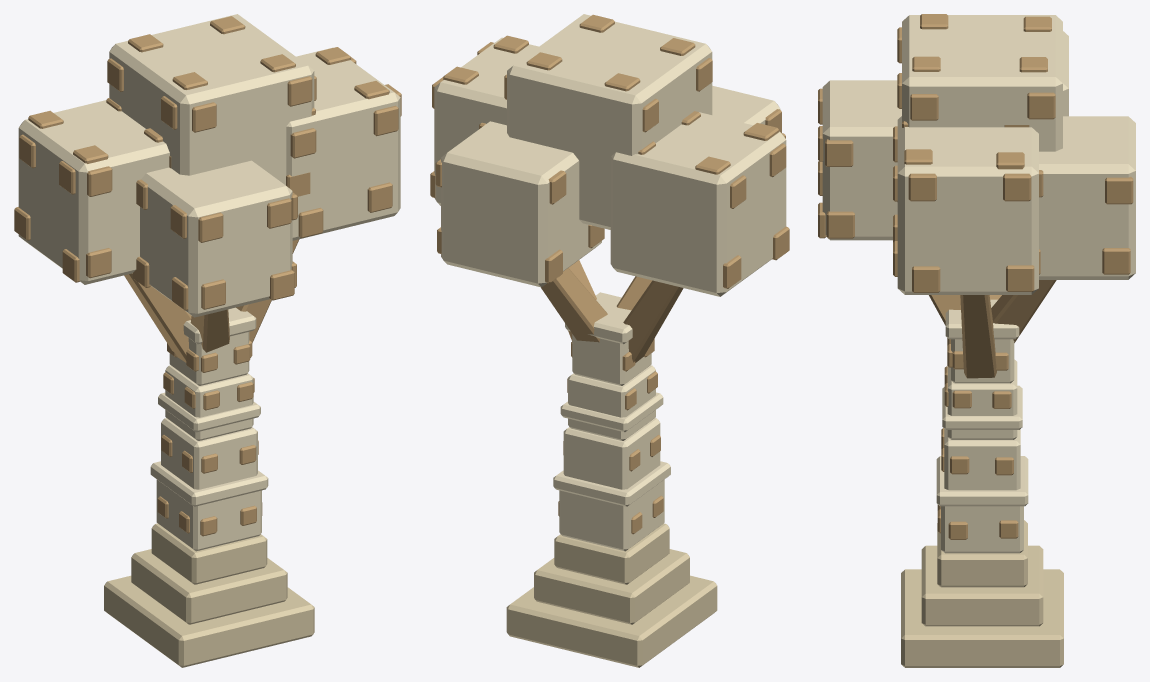
The model's file is DesertSandstoneTree.fbx.
The picture shows the model from 3 angles, left to right: view 1: azimuth 30°, elevation 25°; view 2: azimuth 150°, elevation 25°; view 3: azimuth 270°, elevation 25°; orthographic projection. The views are drawn at different scales.
Parts seen in each view (by area): view 1: DesertSandstoneTree.Crown, DesertSandstoneTree.Studs, DesertSandstoneTree.Base, DesertSandstoneTree.Trunk, DesertSandstoneTree.Branches; view 2: DesertSandstoneTree.Crown, DesertSandstoneTree.Base, DesertSandstoneTree.Trunk, DesertSandstoneTree.Studs, DesertSandstoneTree.Branches; view 3: DesertSandstoneTree.Crown, DesertSandstoneTree.Base, DesertSandstoneTree.Studs, DesertSandstoneTree.Trunk, DesertSandstoneTree.Branches.
Boxes of the visible parts, box(x1,y1,x2,y2) form: DesertSandstoneTree.Crown: box(18, 14, 400, 317); DesertSandstoneTree.Studs: box(14, 16, 401, 536); DesertSandstoneTree.Base: box(104, 523, 314, 667); DesertSandstoneTree.Trunk: box(150, 307, 268, 551); DesertSandstoneTree.Branches: box(124, 239, 299, 362); DesertSandstoneTree.Crown: box(434, 14, 786, 296); DesertSandstoneTree.Base: box(506, 523, 717, 667); DesertSandstoneTree.Trunk: box(553, 292, 670, 551); DesertSandstoneTree.Studs: box(430, 14, 789, 534); DesertSandstoneTree.Branches: box(541, 260, 683, 362); DesertSandstoneTree.Crown: box(822, 15, 1135, 294); DesertSandstoneTree.Base: box(901, 520, 1063, 667); DesertSandstoneTree.Studs: box(818, 14, 1133, 539); DesertSandstoneTree.Trunk: box(936, 299, 1028, 553); DesertSandstoneTree.Branches: box(929, 280, 1056, 378).
Size of the model in its own units: 6.63 by 11.58 by 5.61.
